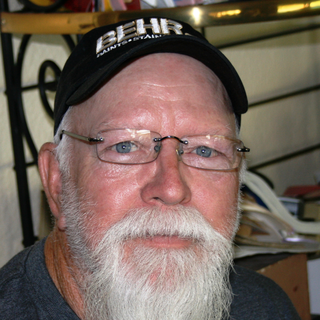eye: (183, 141, 229, 163), (104, 139, 145, 156)
